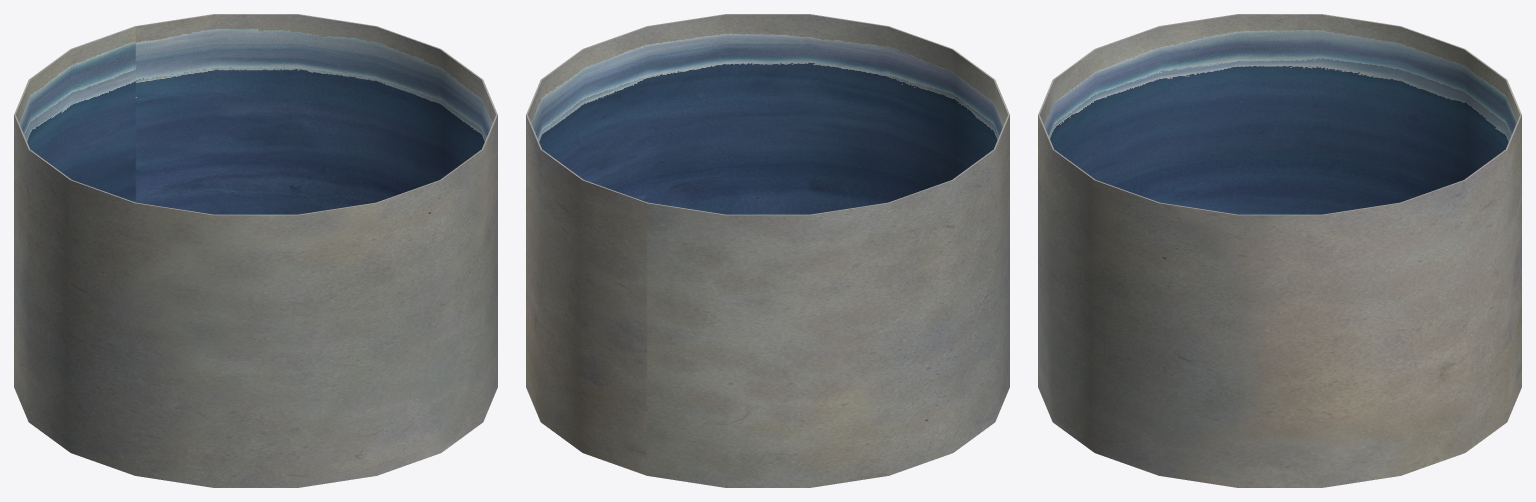
The model's file is BackgroundCylinder.FBX.
3 views of the same model, side by side, from view 1: azimuth 30°, elevation 25°; view 2: azimuth 150°, elevation 25°; view 3: azimuth 270°, elevation 25° (orthographic).
Parts seen in each view (by area): view 1: Tube001; view 2: Tube001; view 3: Tube001.
Boxes of the visible parts, left/top/right/bottom form: Tube001: left=14, top=14, right=497, bottom=487; Tube001: left=526, top=14, right=1009, bottom=487; Tube001: left=1038, top=14, right=1521, bottom=487.
Bounding box in the file's own units: 83.22 × 84.5 × 52.54.
1 material, 1 textured.
